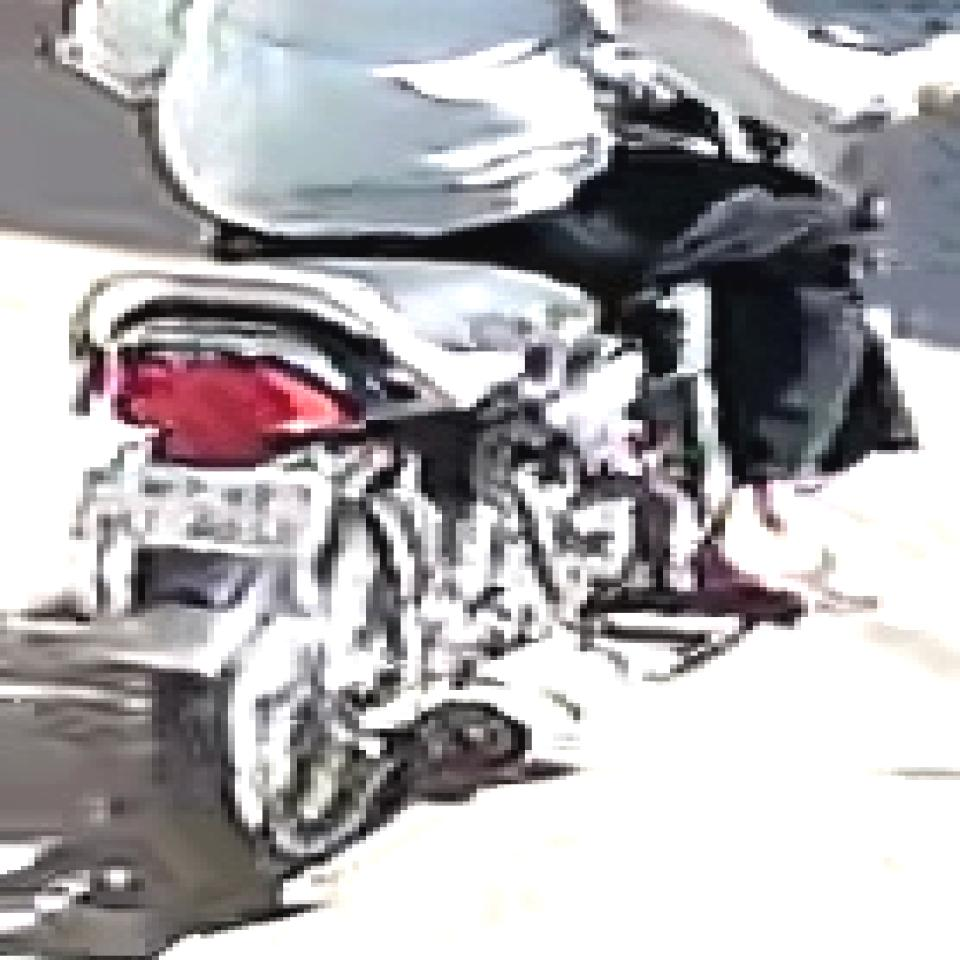tail_light: (114, 347, 345, 444)
